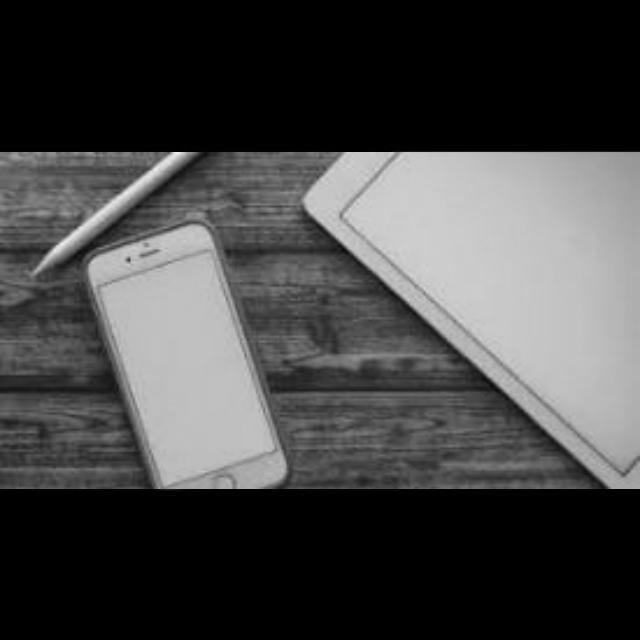fake: (59, 206, 308, 489)
